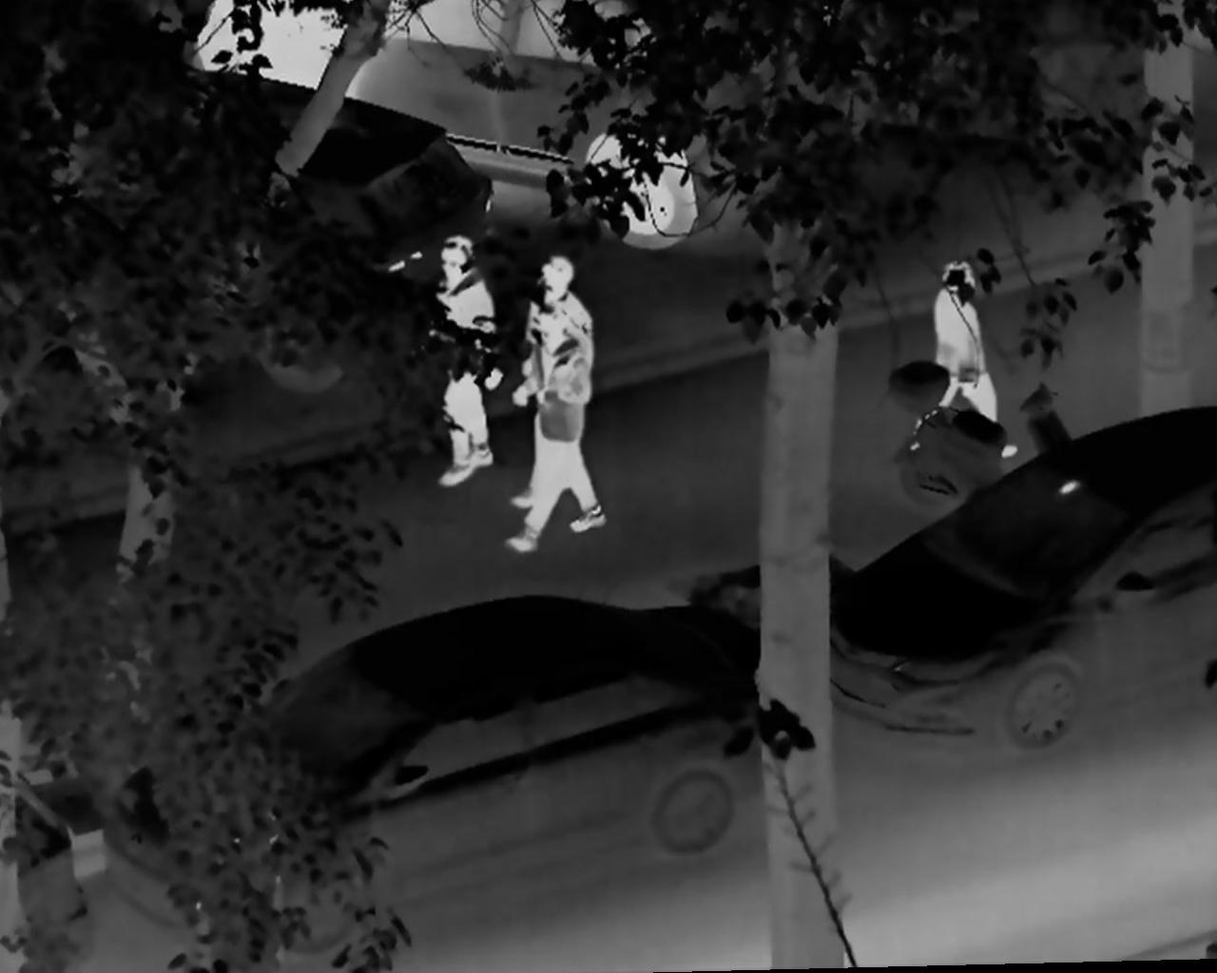person: (503, 309, 610, 555), (903, 252, 1020, 463), (506, 251, 594, 516), (418, 233, 506, 488)
